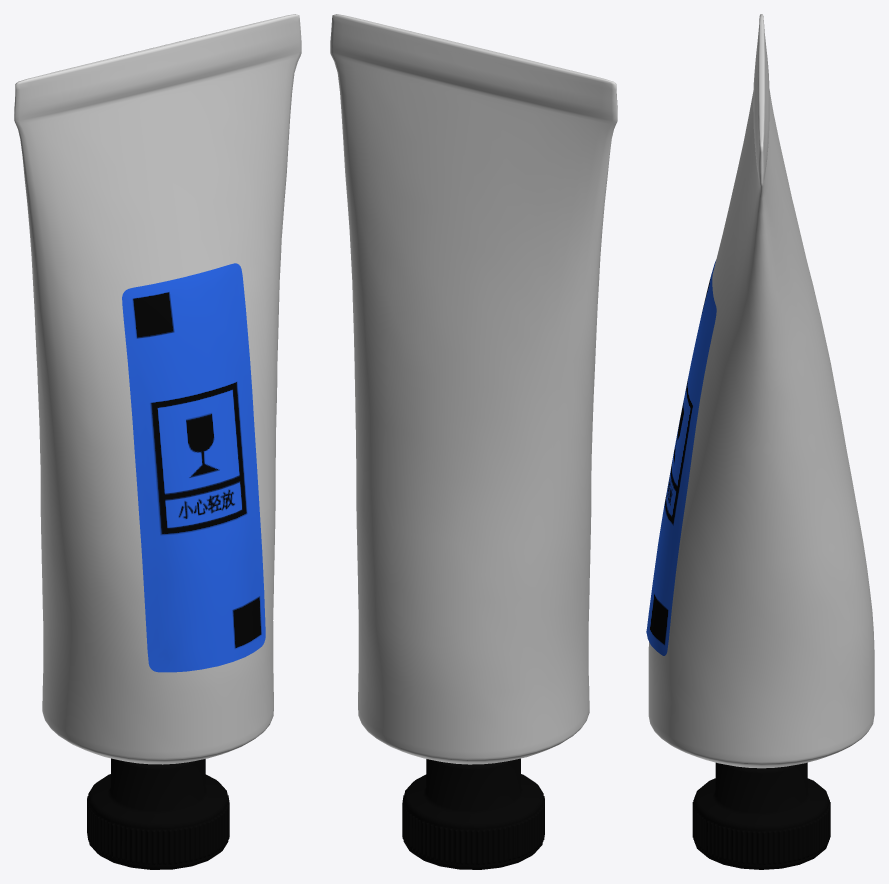
3 views of the same model, side by side, from view 1: azimuth 30°, elevation 25°; view 2: azimuth 150°, elevation 25°; view 3: azimuth 270°, elevation 25° (orthographic). The views are drawn at different scales.
Visible parts, largest first — view 1: 管体, 贴图, 盖子; view 2: 管体, 盖子; view 3: 管体, 盖子, 贴图.
Boxes of the visible parts, bbox=[...] form: 管体: bbox=[14, 14, 301, 764]; 贴图: bbox=[122, 263, 265, 672]; 盖子: bbox=[87, 758, 229, 869]; 管体: bbox=[330, 14, 617, 764]; 盖子: bbox=[402, 758, 544, 869]; 管体: bbox=[648, 14, 874, 768]; 盖子: bbox=[692, 762, 830, 869]; 贴图: bbox=[646, 261, 716, 655].
Bounding box in the file's own units: 51.46 × 136 × 36.8.
Materials: 3 (1 with a texture image).
